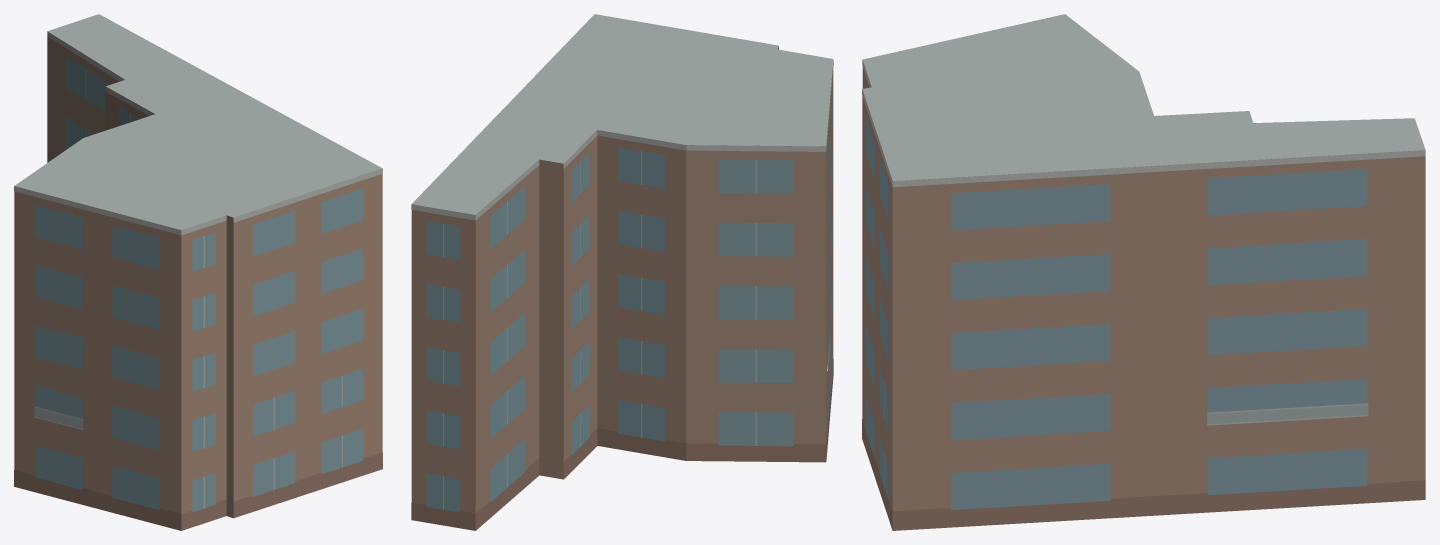
The model's file is survey-upis-32775205.glb.
3 renders of one model, left to right at view 1: azimuth 30°, elevation 25°; view 2: azimuth 150°, elevation 25°; view 3: azimuth 270°, elevation 25°, orthographic. The views are drawn at different scales.
Visible parts, largest first — view 1: survey-upis-32775205.tmp; view 2: survey-upis-32775205.tmp; view 3: survey-upis-32775205.tmp.
Part boxes in pixels (<box>): survey-upis-32775205.tmp: <box>14,14,382,530</box>; survey-upis-32775205.tmp: <box>411,14,833,530</box>; survey-upis-32775205.tmp: <box>862,14,1425,530</box>.
Bounding box in the file's own units: 14.26 × 13.9 × 20.31.
